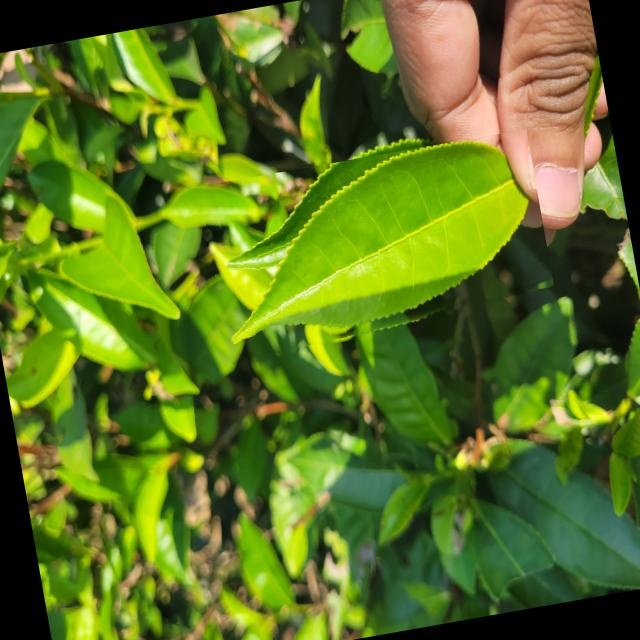Catagory A(1-2 days): (192, 127, 558, 366)
